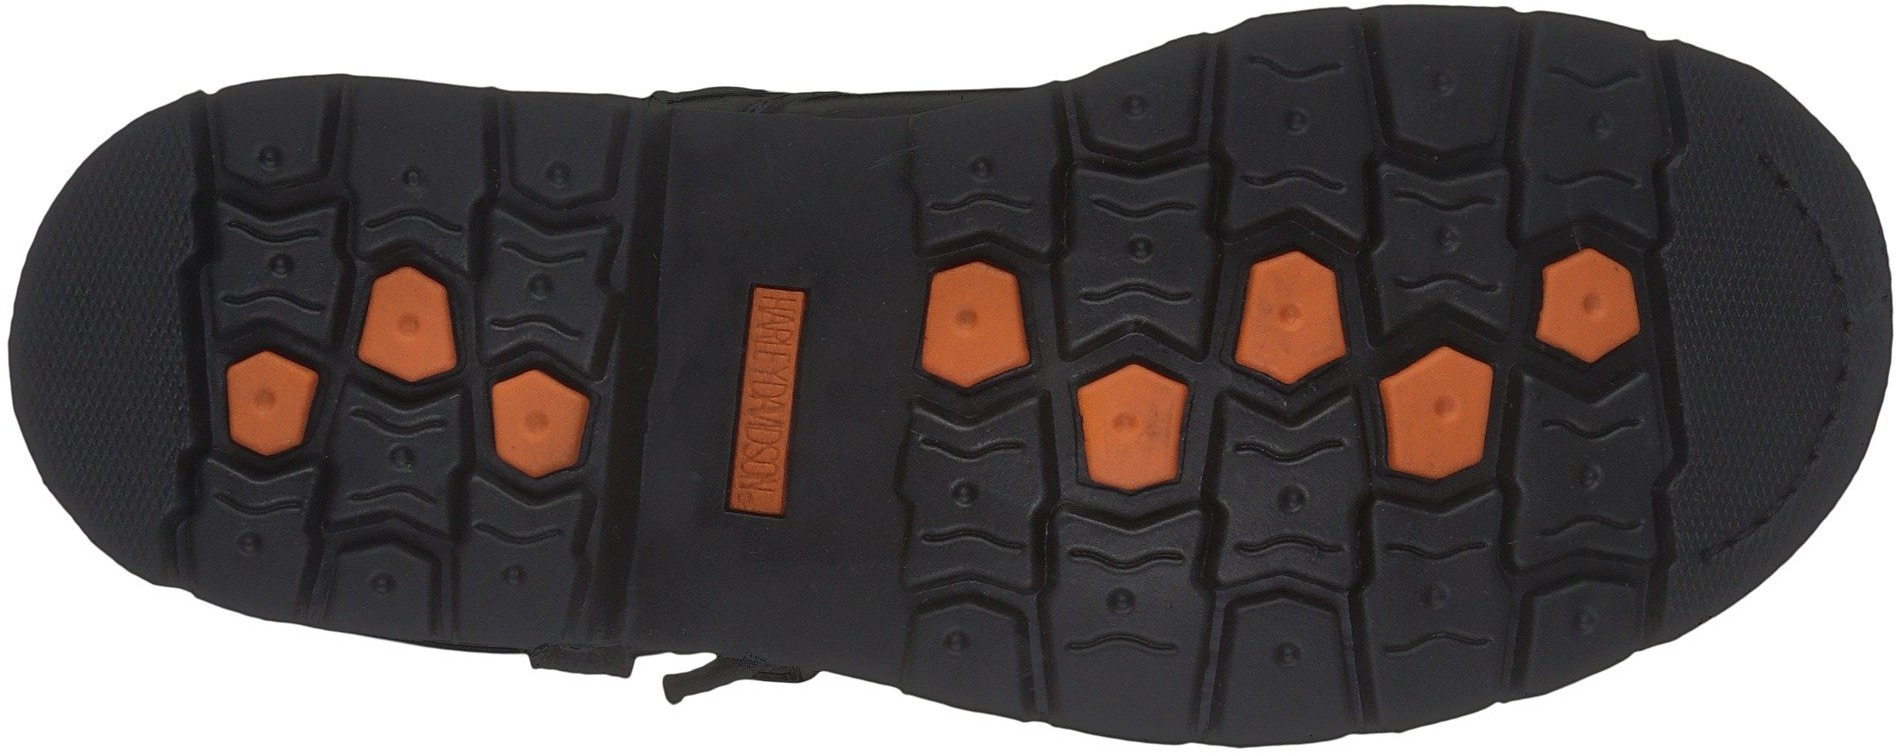chevron: (894, 409, 1044, 573), (1233, 31, 1357, 95)
circle: (1173, 579, 1386, 748), (1212, 232, 1385, 415), (1515, 213, 1676, 394), (883, 238, 1053, 404), (495, 69, 654, 228), (1363, 331, 1507, 506), (894, 409, 1044, 573), (1058, 337, 1202, 504), (198, 308, 341, 473), (480, 338, 623, 502), (339, 262, 475, 412)
other: (693, 110, 865, 295), (39, 247, 184, 444)
polygon: (1173, 579, 1386, 748), (1212, 232, 1385, 415), (1515, 213, 1676, 394), (883, 238, 1053, 404), (495, 69, 654, 228), (1363, 331, 1507, 506), (1058, 337, 1202, 504), (198, 308, 341, 473), (480, 338, 623, 502), (339, 262, 475, 412)
quad: (695, 248, 836, 549)
text: (695, 248, 836, 549), (734, 358, 802, 425), (746, 285, 807, 352), (738, 431, 798, 494)
